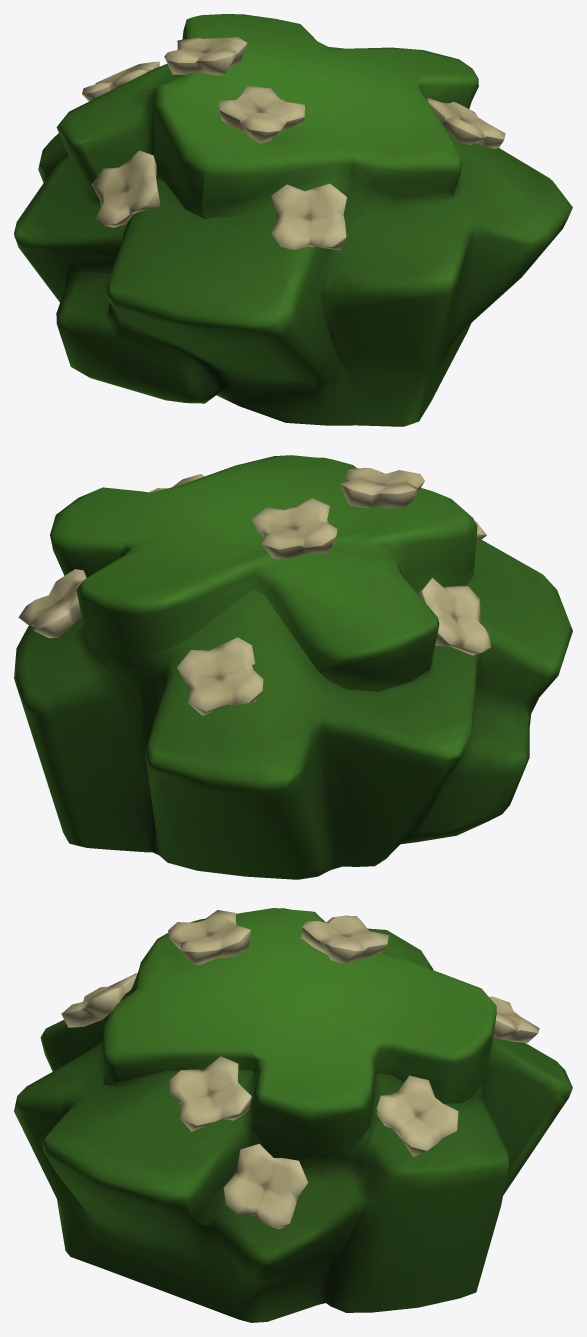
Rendered from SM_Shrub_01.glb.
3 renders of one model, top to bottom at view 1: azimuth 30°, elevation 25°; view 2: azimuth 150°, elevation 25°; view 3: azimuth 270°, elevation 25°, orthographic. The views are drawn at different scales.
Visible parts, largest first — view 1: SM_Shrub_01; view 2: SM_Shrub_01; view 3: SM_Shrub_01.
Boxes of the visible parts, left/top/right/bottom form: SM_Shrub_01: left=14, top=14, right=572, bottom=426; SM_Shrub_01: left=14, top=455, right=572, bottom=879; SM_Shrub_01: left=14, top=908, right=572, bottom=1322.
Size of the model in its own units: 2.21 by 1.41 by 2.41.
Materials: 1 (1 with a texture image).
